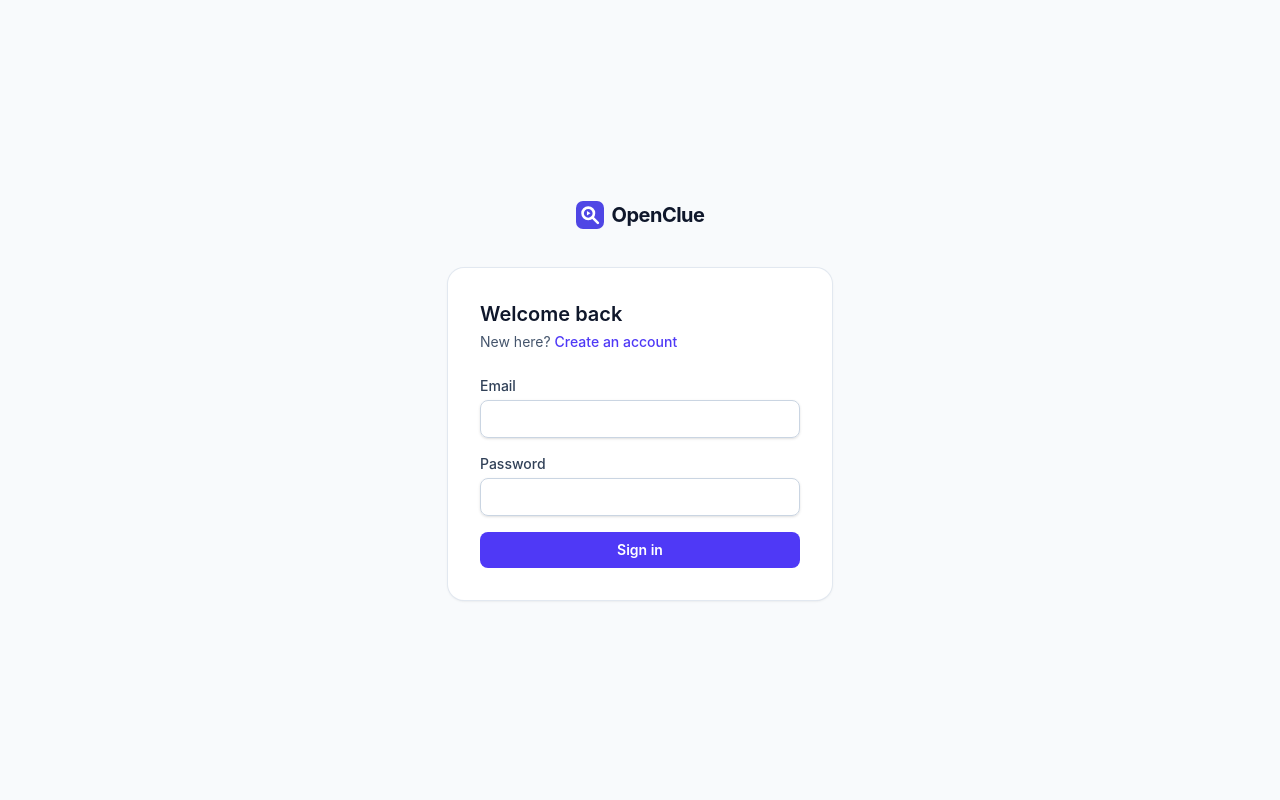
App routes › redirects signed-out users from the app to sign in, then into the dashboard
The width and height of the screenshot is (1280, 800).
Expected: the heading "Welcome back" is shown, [480,302,622,326]
Step 1. Type "ada@example.com" into the field labelled "Email" → (640, 418), box [480,400,800,438]
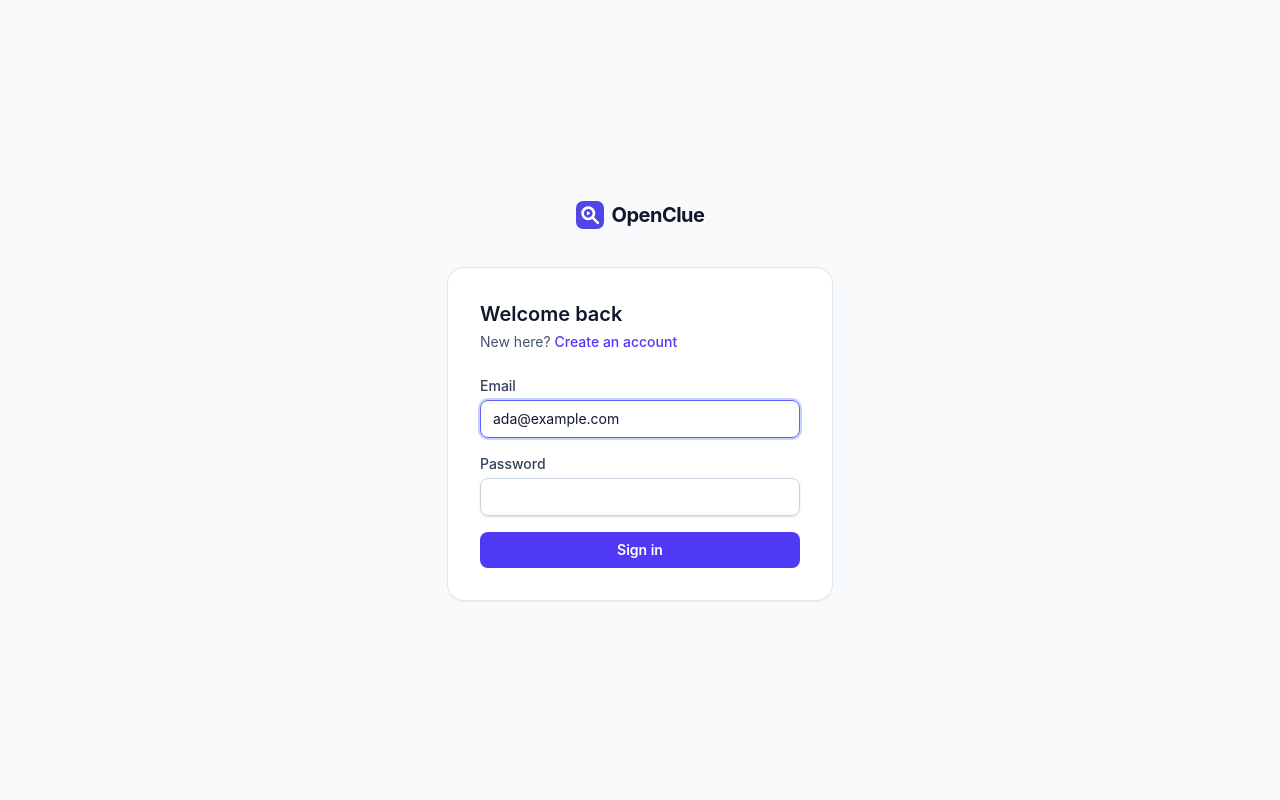
Step 2. Type "correct-horse" into the password field labelled "Password" → (640, 496), box [480,478,800,516]
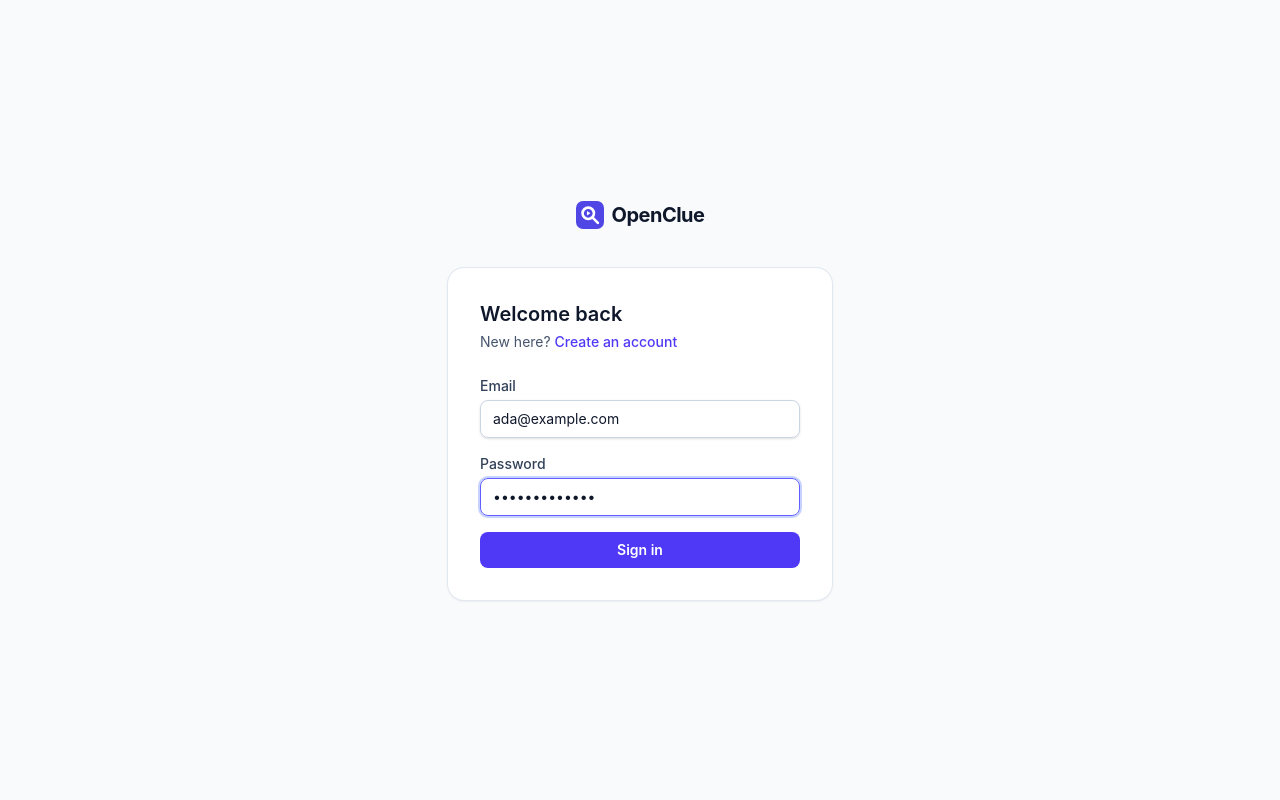
Step 3. Click the button "Sign in" → (640, 550), box [480,532,800,568]
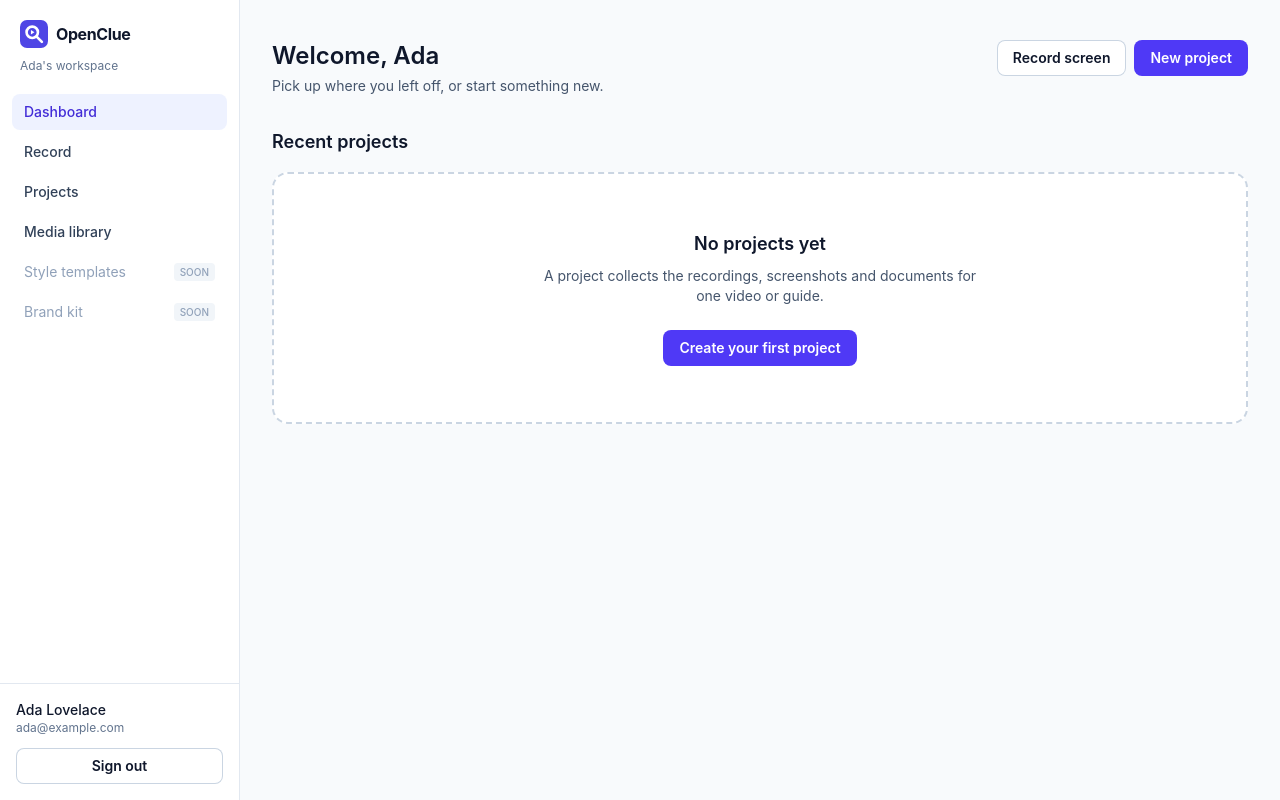
Now the heading "Welcome, Ada" is shown, box [272,41,439,70]
Now the navigation bar named "Main" is shown, box [12,94,227,321]
Now the heading "No projects yet" is shown, box [694,230,826,258]
